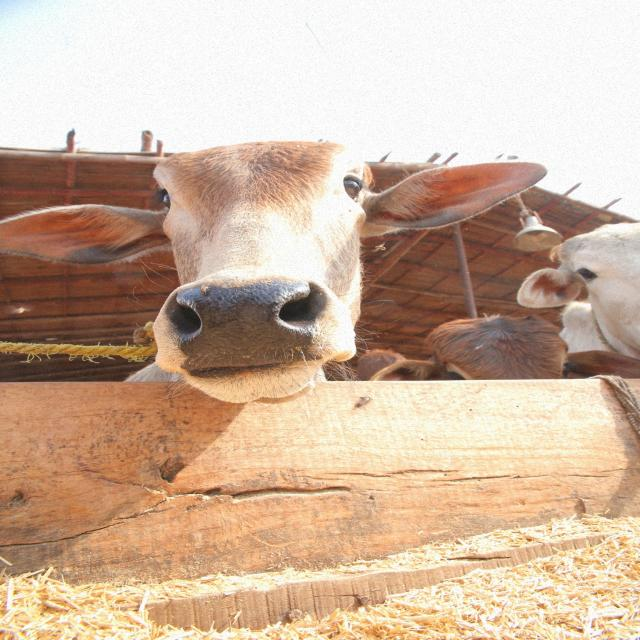muzzles: (148, 270, 334, 374)
